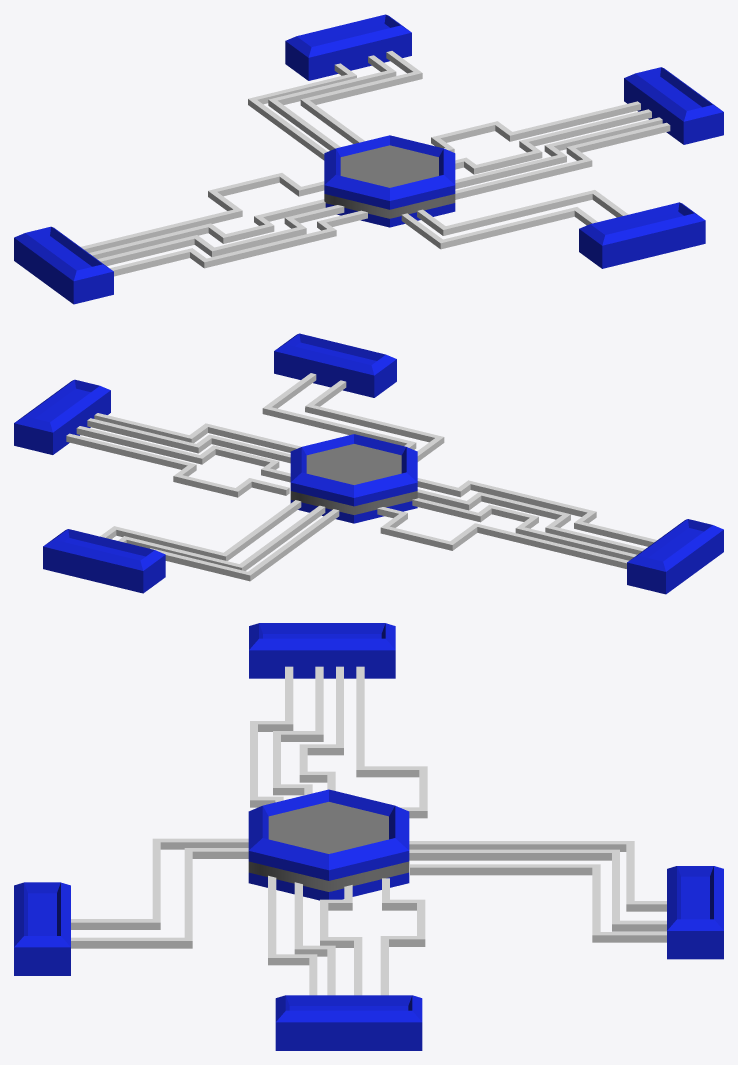
The model's file is puzzle_pad.fbx.
3 views of the same model, one above another, from view 1: azimuth 30°, elevation 25°; view 2: azimuth 150°, elevation 25°; view 3: azimuth 270°, elevation 25° (orthographic). The views are drawn at different scales.
Visible parts, largest first — view 1: Line019, Platform, Box006, Box005, Box004, Box003; view 2: Line019, Platform, Box005, Box006, Box004, Box003; view 3: Line019, Platform, Box003, Box004, Box005, Box006.
Boxes of the visible parts, x1,y1,x2,y2 form: Line019: (81,51,670,276); Platform: (324,135,455,227); Box006: (579,202,705,268); Box005: (285,14,411,80); Box004: (14,226,113,304); Box003: (624,67,723,144); Line019: (66,373,657,581); Platform: (290,434,417,523); Box005: (43,529,165,593); Box006: (274,333,396,397); Box004: (627,519,723,594); Box003: (14,379,110,454); Line019: (71,666,666,995); Platform: (248,789,409,900); Box003: (275,995,422,1050); Box004: (249,623,395,678); Box005: (667,866,723,959); Box006: (14,882,70,975).
Size of the model in its own units: 56.92 by 2.8 by 43.11.
